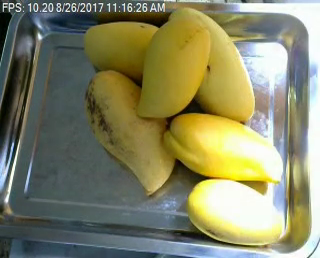Mango: (85, 70, 175, 194), (167, 5, 253, 121), (161, 113, 283, 182), (137, 14, 210, 117), (185, 179, 281, 244), (83, 22, 162, 84)
